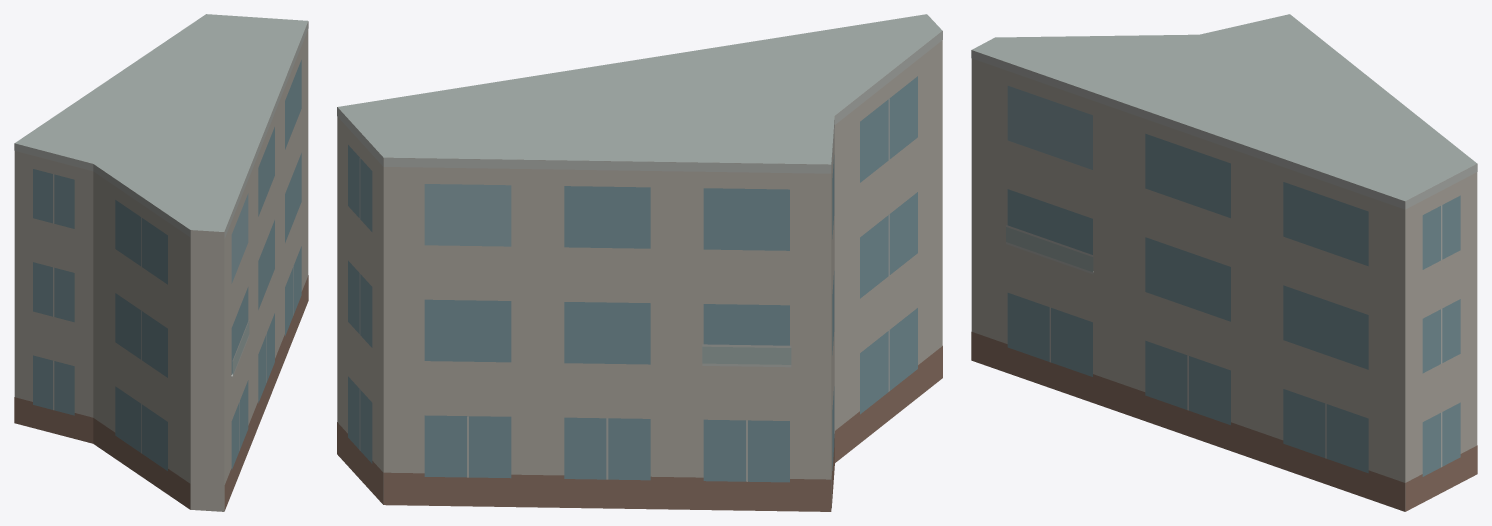
File: survey-upis-32555873.glb
3 renders of one model, left to right at view 1: azimuth 30°, elevation 25°; view 2: azimuth 150°, elevation 25°; view 3: azimuth 270°, elevation 25°, orthographic. The views are drawn at different scales.
Visible parts, largest first — view 1: survey-upis-32555873.tmp; view 2: survey-upis-32555873.tmp; view 3: survey-upis-32555873.tmp.
Boxes of the visible parts, x1,y1,x2,y2 form: survey-upis-32555873.tmp: (14,14,308,511); survey-upis-32555873.tmp: (337,14,942,511); survey-upis-32555873.tmp: (971,14,1477,511).
Size of the model in its own units: 11.85 by 9.15 by 13.52.
